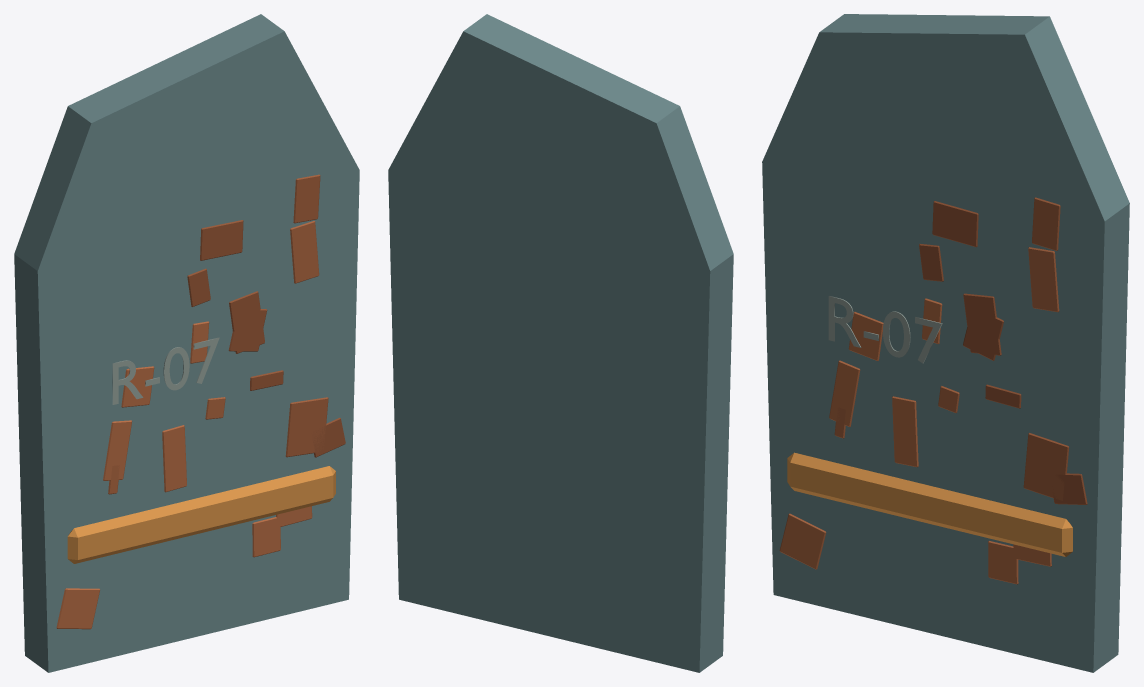
Rendered from Core_Armor_Shield.glb.
The picture shows the model from 3 angles, left to right: view 1: azimuth 30°, elevation 25°; view 2: azimuth 150°, elevation 25°; view 3: azimuth 330°, elevation 25°; orthographic projection. The views are drawn at different scales.
Parts seen in each view (by area): view 1: Core_Armor_Shield; view 2: Core_Armor_Shield; view 3: Core_Armor_Shield.
Boxes of the visible parts, x1=… form: Core_Armor_Shield: x1=14, y1=14, x2=359, y2=672; Core_Armor_Shield: x1=388, y1=14, x2=733, y2=672; Core_Armor_Shield: x1=762, y1=14, x2=1129, y2=672.
Size of the model in its own units: 1.5 by 2.6 by 0.245.
